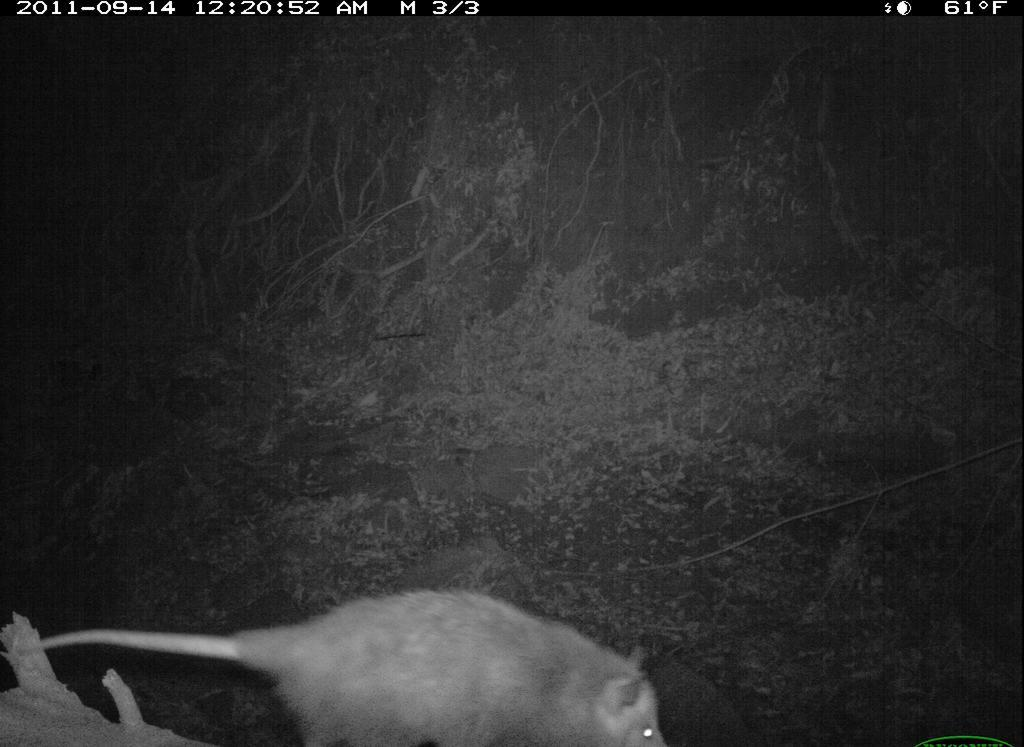opossum: (9, 584, 679, 747)
